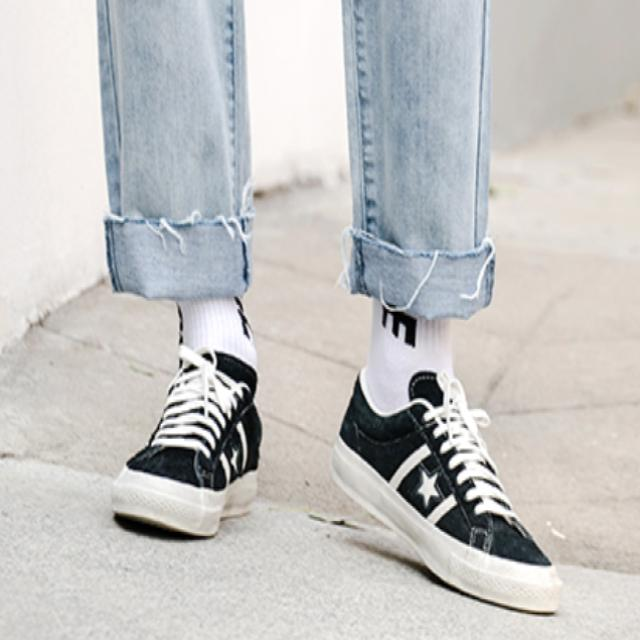shoe: (342, 302, 557, 621), (105, 295, 268, 535)
